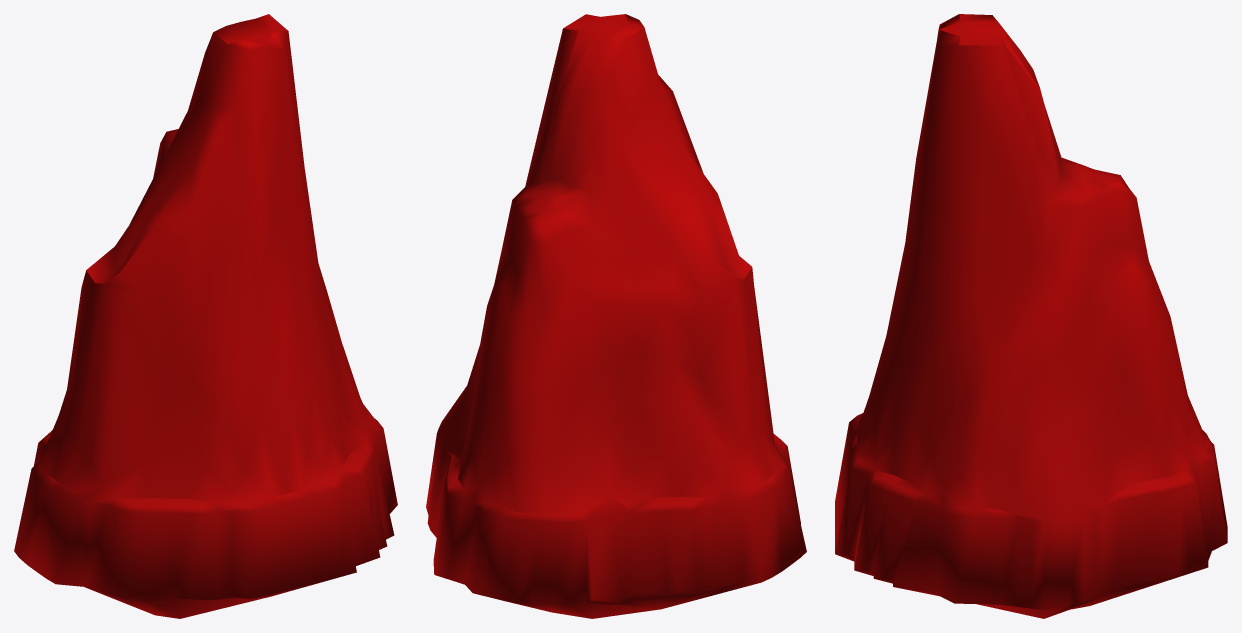
Rendered from geology-landforms-redstonemountain_v3.fbx.
The picture shows the model from 3 angles, left to right: view 1: azimuth 30°, elevation 25°; view 2: azimuth 150°, elevation 25°; view 3: azimuth 270°, elevation 25°; orthographic projection. The views are drawn at different scales.
Parts seen in each view (by area): view 1: RedStoneMountain_v3; view 2: RedStoneMountain_v3; view 3: RedStoneMountain_v3.
Boxes of the visible parts, x1,y1,x2,y2 form: RedStoneMountain_v3: [14, 14, 397, 618]; RedStoneMountain_v3: [426, 14, 806, 618]; RedStoneMountain_v3: [835, 14, 1227, 618].
Size of the model in its own units: 24.99 by 38.44 by 23.75.
